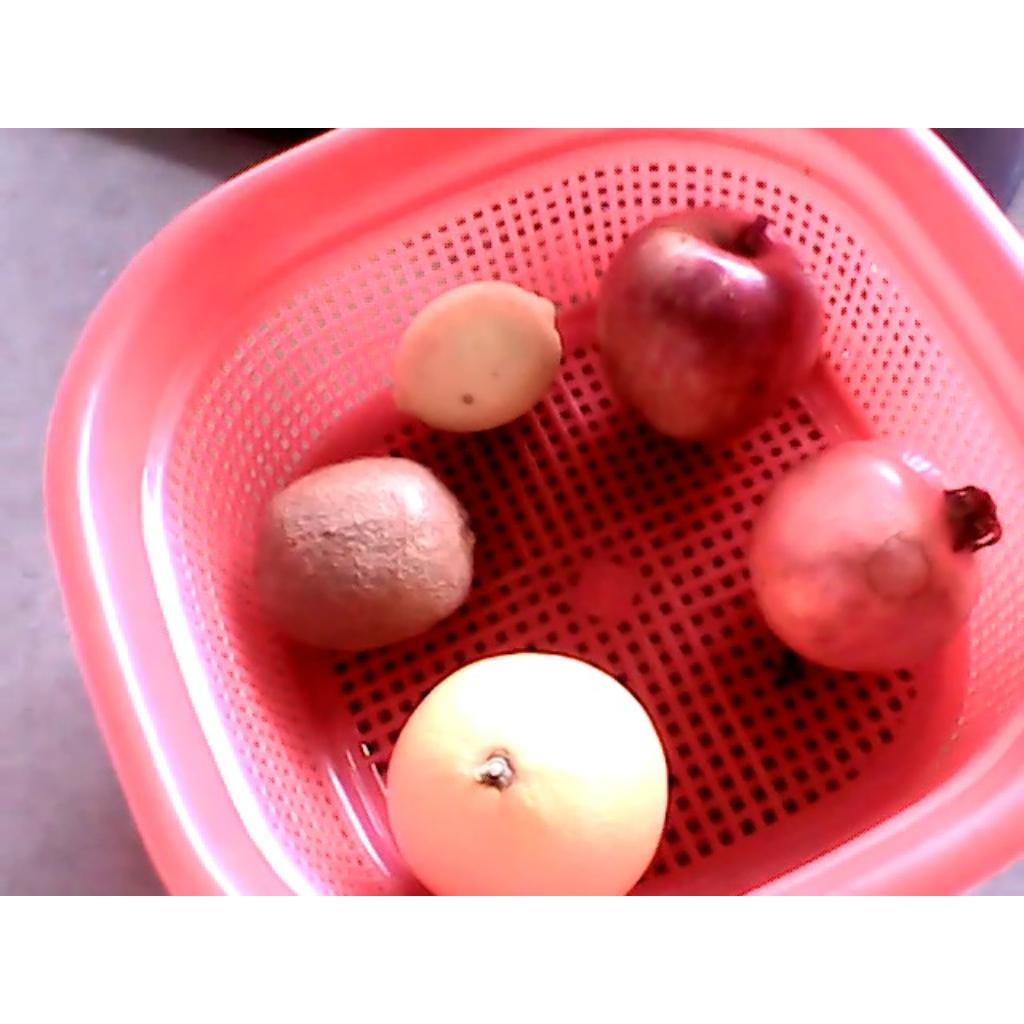apple: (598, 207, 826, 442)
kiwi: (251, 455, 475, 653)
lemon: (393, 278, 562, 431)
orange: (387, 649, 669, 894)
pomegranate: (746, 440, 1001, 675)
